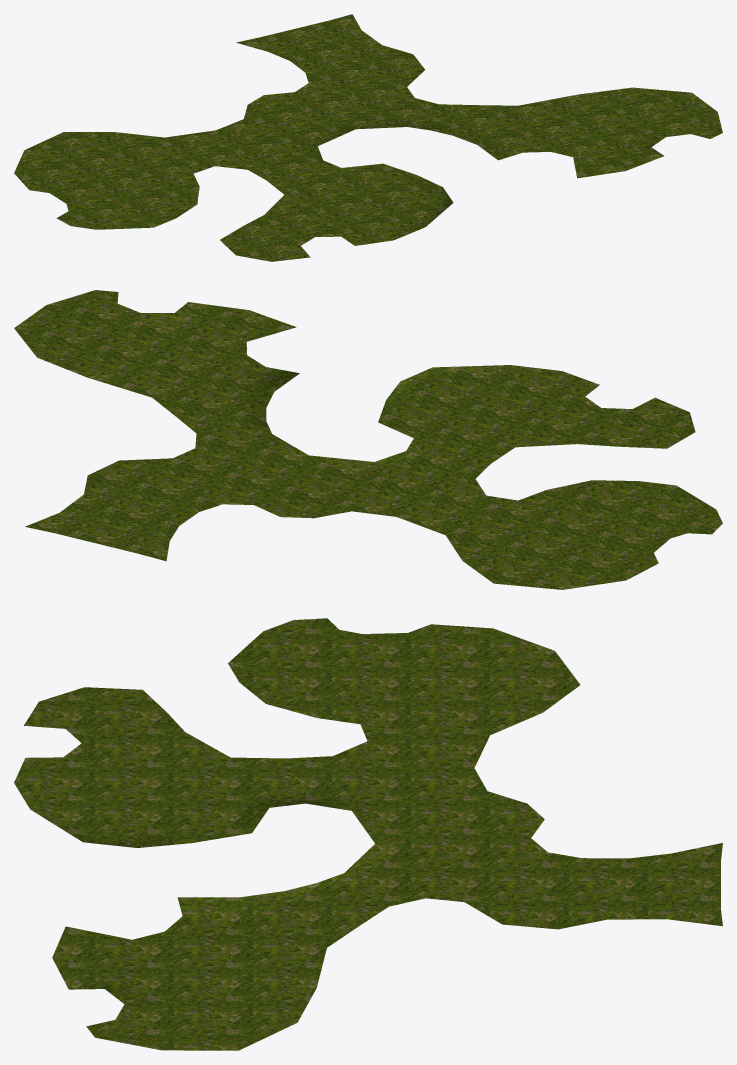
File: OVERHILL_A_01_LINE10.fbx
The picture shows the model from 3 angles, top to bottom: view 1: azimuth 30°, elevation 25°; view 2: azimuth 150°, elevation 25°; view 3: azimuth 270°, elevation 25°; orthographic projection. The views are drawn at different scales.
Visible parts, largest first — view 1: OVERHILL_A_01_LINE10; view 2: OVERHILL_A_01_LINE10; view 3: OVERHILL_A_01_LINE10.
Part boxes in pixels (box(x1,y1,x2,y2)): OVERHILL_A_01_LINE10: box(14, 14, 722, 261); OVERHILL_A_01_LINE10: box(14, 290, 722, 589); OVERHILL_A_01_LINE10: box(14, 618, 722, 1050).
Size of the model in its own units: 259074 by 0.0353 by 179462.
Materials: 1 (1 with a texture image).
